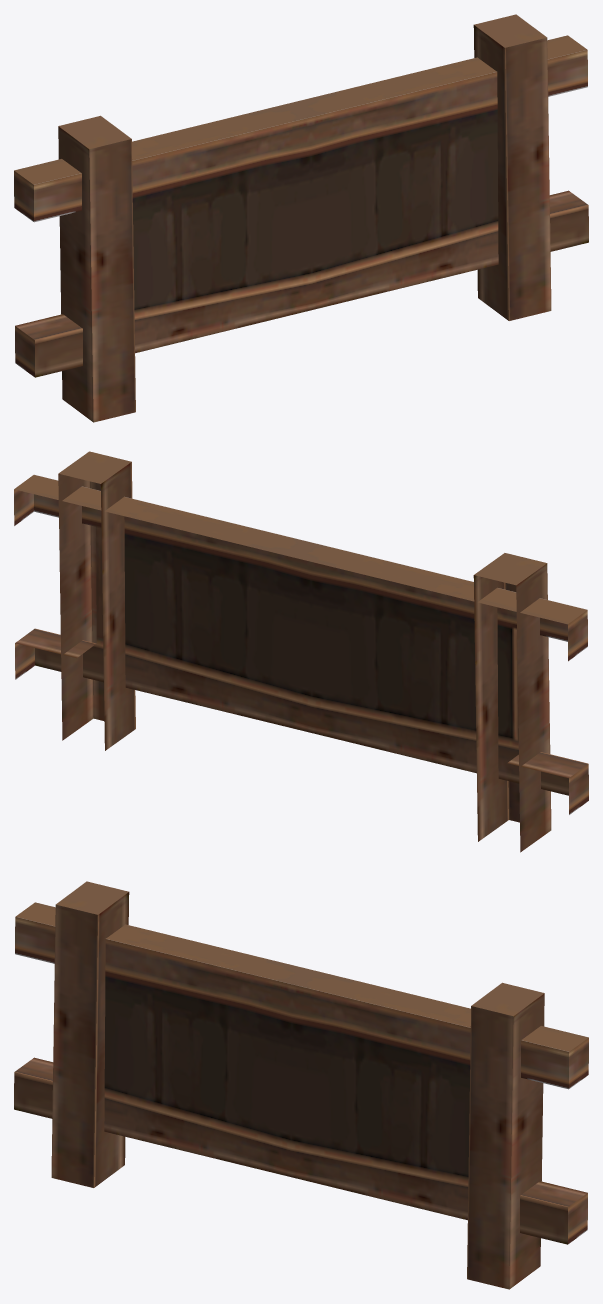
Rendered from FH_Env_MenPai_01.FBX.
The picture shows the model from 3 angles, top to bottom: view 1: azimuth 30°, elevation 25°; view 2: azimuth 150°, elevation 25°; view 3: azimuth 330°, elevation 25°; orthographic projection.
Visible parts, largest first — view 1: Box01; view 2: Box01; view 3: Box01.
Part boxes in pixels (x1,y1,x2,y2): Box01: (14, 14, 588, 422); Box01: (14, 451, 588, 852); Box01: (14, 881, 588, 1289).
Bounding box in the file's own units: 6.12 × 2.86 × 0.6742.
